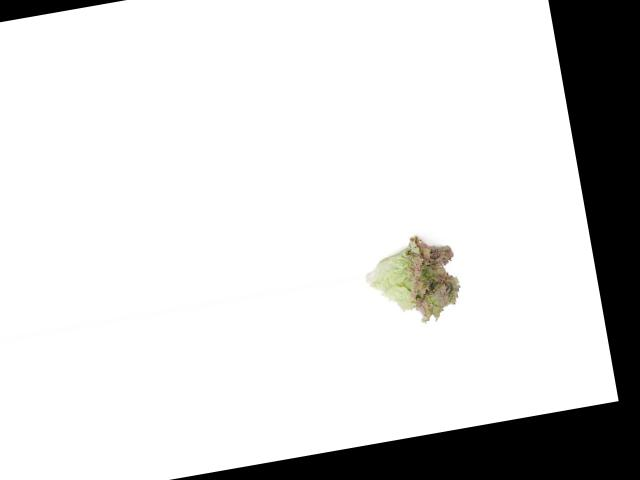lettuce: (356, 219, 477, 335)
